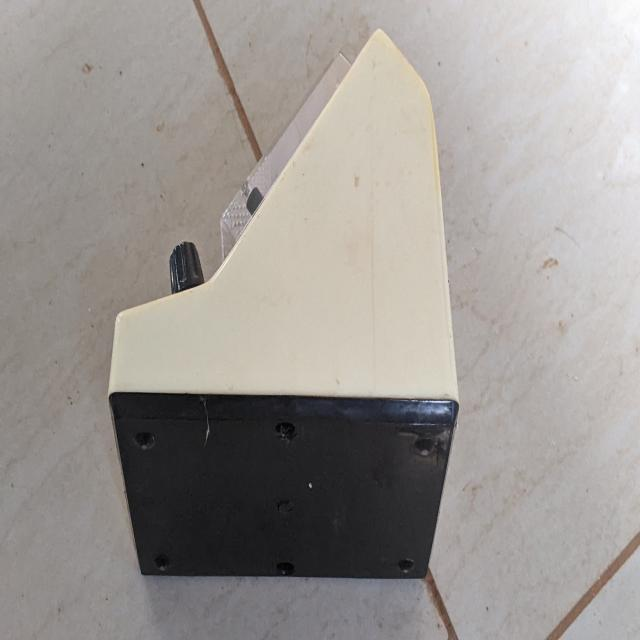Ammeter Analog: (108, 25, 464, 592)
